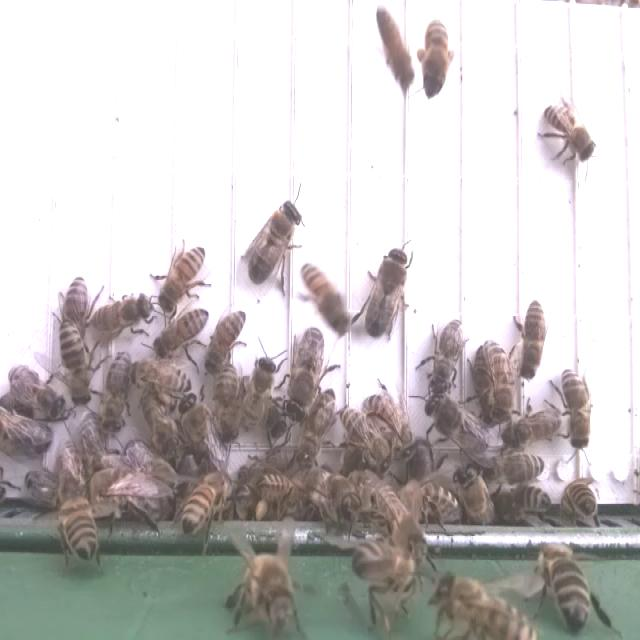Drone: (421, 388, 495, 465), (361, 244, 412, 343), (247, 199, 304, 287), (176, 388, 228, 482), (282, 324, 326, 424)
Worker: (148, 238, 212, 312), (89, 286, 154, 349), (95, 347, 137, 441), (540, 100, 597, 166), (56, 317, 93, 409), (558, 364, 595, 455), (203, 307, 250, 377), (301, 387, 339, 472), (153, 299, 206, 358), (344, 404, 389, 473), (240, 354, 277, 437), (485, 443, 552, 488), (177, 477, 226, 538), (365, 390, 417, 447), (516, 298, 549, 384), (428, 318, 463, 396), (498, 407, 561, 450), (212, 357, 241, 449), (485, 335, 515, 416)
